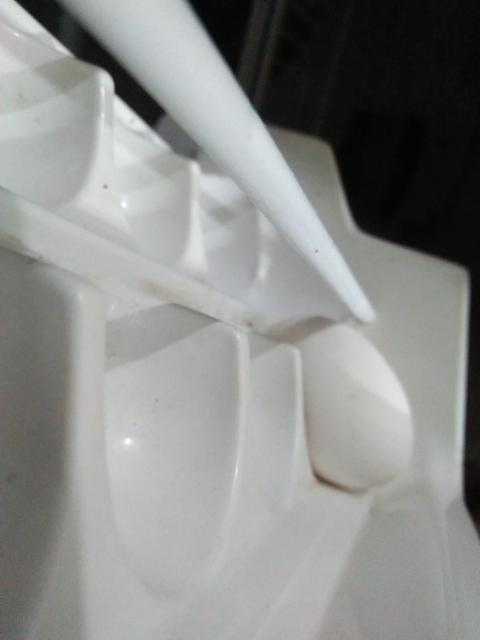Sano: (292, 321, 415, 493)
